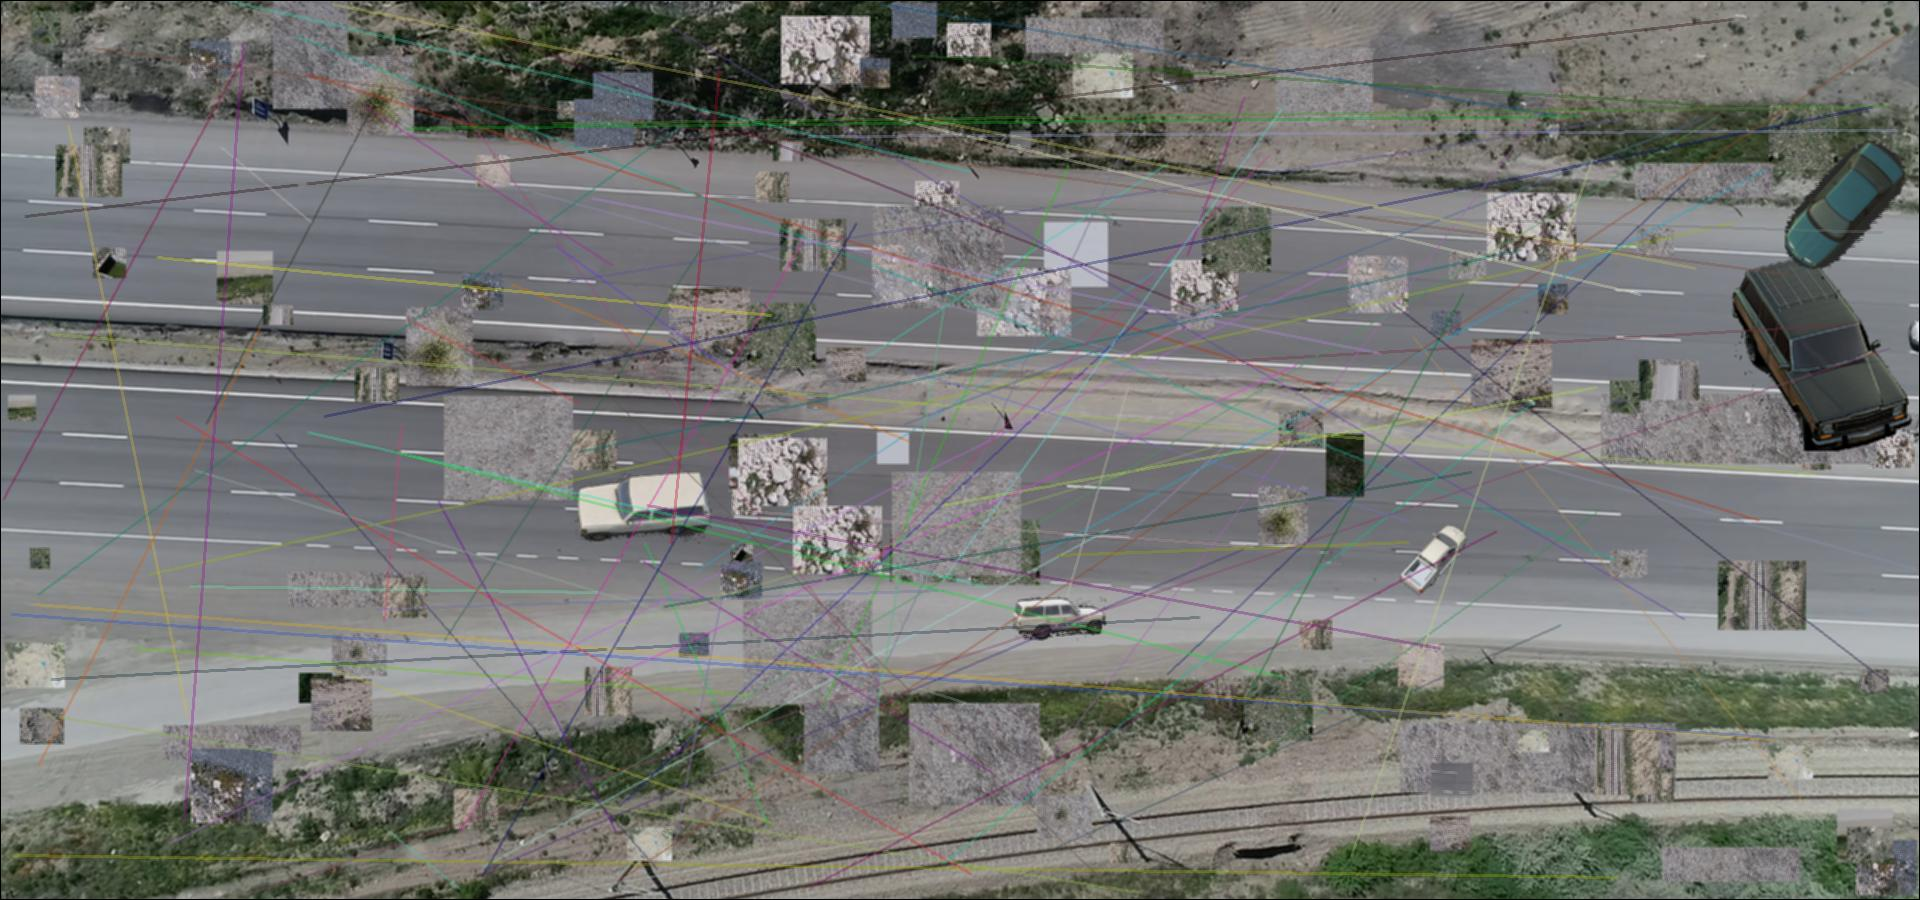arac: (1725, 258, 1915, 451), (1785, 133, 1907, 269), (574, 471, 713, 542), (1397, 523, 1471, 598), (1013, 598, 1106, 640)
